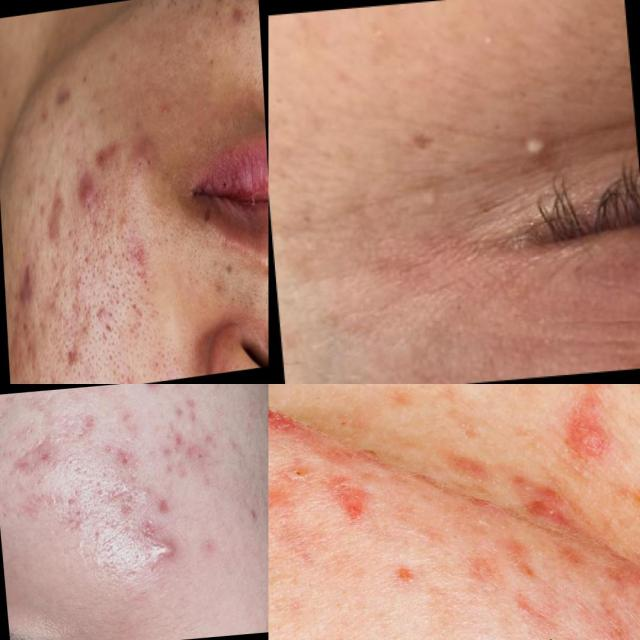acne_scars: (10, 253, 46, 319), (324, 478, 370, 523), (48, 72, 78, 120), (44, 187, 65, 247), (170, 389, 200, 424), (124, 234, 152, 270), (240, 490, 268, 524), (68, 412, 100, 440), (62, 328, 81, 374), (109, 441, 136, 470), (8, 454, 39, 479), (55, 488, 84, 512), (40, 432, 56, 468), (112, 493, 132, 520), (153, 496, 178, 517), (166, 428, 186, 454), (160, 90, 172, 122)
comedone: (130, 476, 160, 508)
milium: (363, 169, 473, 222), (497, 115, 573, 182), (454, 11, 512, 57), (366, 10, 391, 50)
papule: (136, 532, 183, 566), (89, 136, 122, 184), (128, 122, 158, 167), (72, 164, 99, 210), (114, 208, 127, 238)
